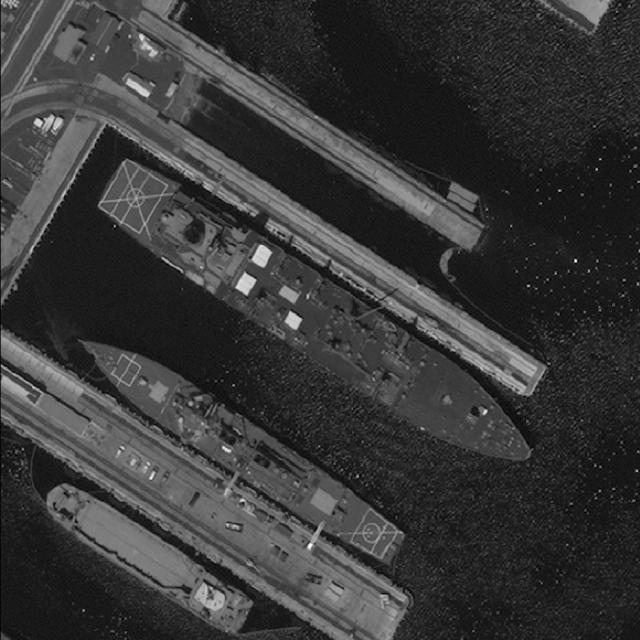Commander: (83, 145, 554, 497)
Destroyer: (63, 317, 413, 570)
Dock: (161, 126, 552, 398), (183, 38, 486, 255)
